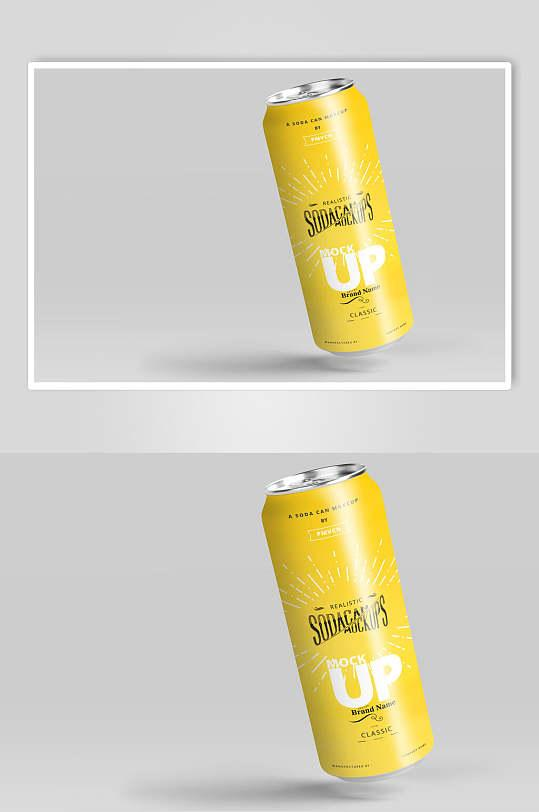metal: (262, 463, 432, 777), (263, 77, 412, 352)
